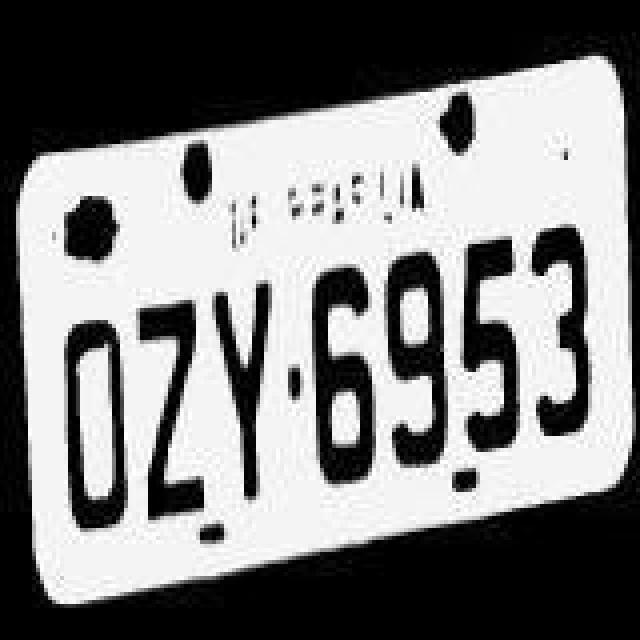3: (526, 206, 602, 442)
5: (454, 212, 530, 456)
6: (306, 252, 382, 496)
9: (382, 224, 450, 468)
O: (64, 300, 144, 548)
Y: (214, 276, 282, 528)
Z: (130, 276, 206, 540)
